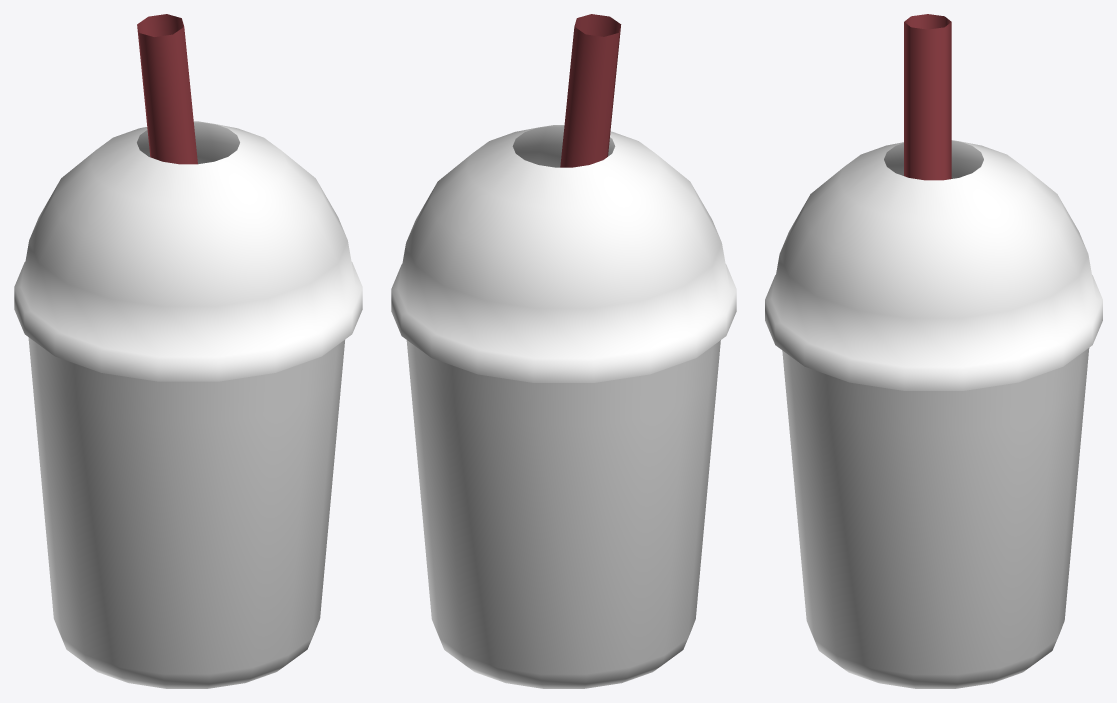
File: boba.glb
3 renders of one model, left to right at view 1: azimuth 30°, elevation 25°; view 2: azimuth 150°, elevation 25°; view 3: azimuth 270°, elevation 25°, orthographic. The views are drawn at different scales.
Parts seen in each view (by area): view 1: cup, top, straw; view 2: cup, top, straw; view 3: cup, top, straw.
Part boxes in pixels (x1,y1,x2,y2): cup: (28, 337, 344, 688); top: (14, 121, 362, 381); straw: (137, 14, 197, 164); cup: (406, 340, 720, 688); top: (391, 125, 736, 382); straw: (560, 14, 621, 167); cup: (782, 348, 1089, 688); top: (765, 140, 1102, 390); straw: (904, 14, 951, 180).
Size of the model in its own units: 2.62 by 5.31 by 2.66.
